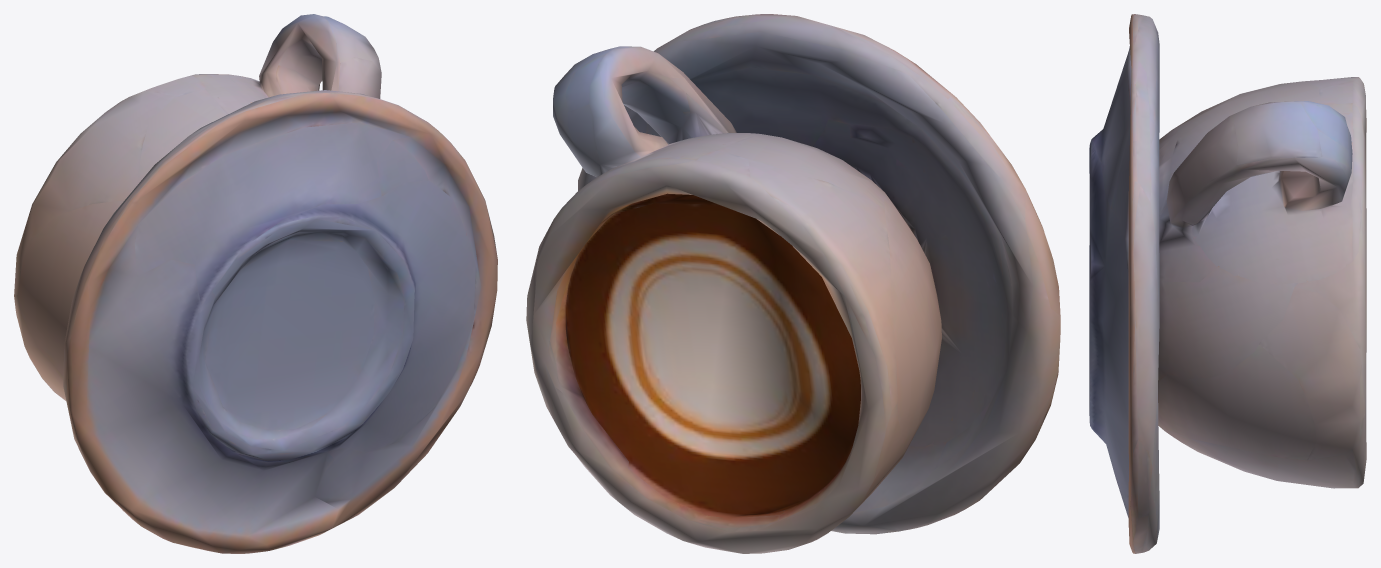
The picture shows the model from 3 angles, left to right: view 1: azimuth 30°, elevation 25°; view 2: azimuth 150°, elevation 25°; view 3: azimuth 270°, elevation 25°; orthographic projection. The views are drawn at different scales.
Parts seen in each view (by area): view 1: material; view 2: material; view 3: material.
Part boxes in pixels (box(x1,y1,x2,y2)): material: box(14, 14, 497, 553); material: box(526, 14, 1060, 553); material: box(1089, 14, 1366, 553).
Bounding box in the file's own units: 1 × 0.9995 × 0.512.
Materials: 1 (1 with a texture image).
